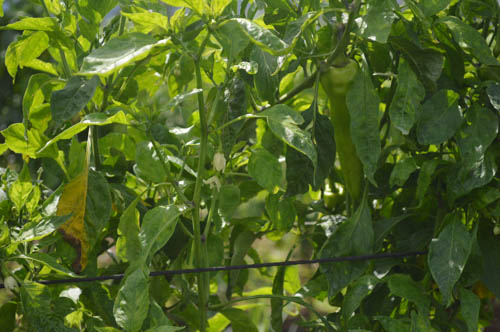ChiliPepper: (322, 64, 366, 193)
